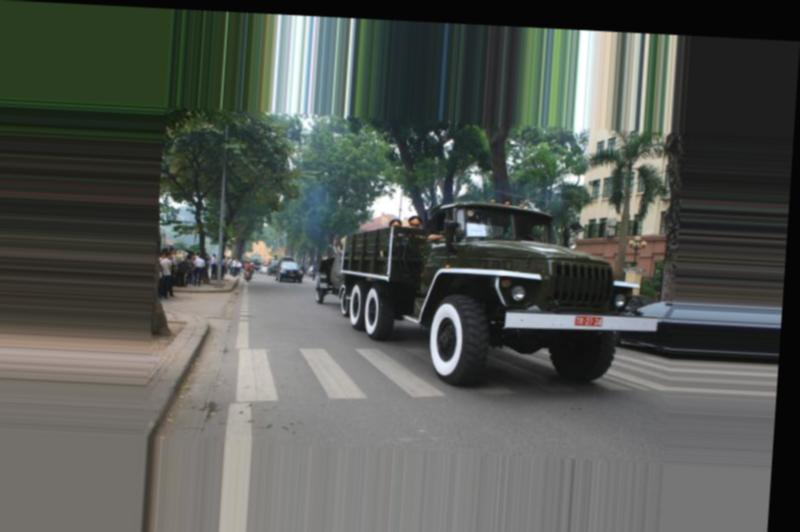License_Plate: (568, 312, 609, 335)
